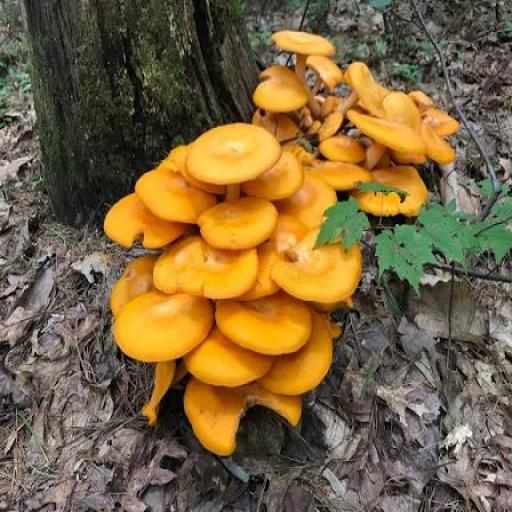Jack O Lantern Mushroom: (179, 368, 305, 457), (149, 227, 261, 305), (185, 119, 282, 208), (110, 285, 212, 366), (206, 301, 313, 372), (185, 186, 288, 257), (338, 105, 432, 175), (171, 328, 266, 396), (101, 186, 188, 258), (258, 317, 341, 389), (322, 64, 385, 142), (137, 164, 214, 227), (244, 145, 319, 207), (247, 60, 310, 118), (270, 23, 330, 81), (301, 56, 352, 116), (312, 135, 367, 176)
